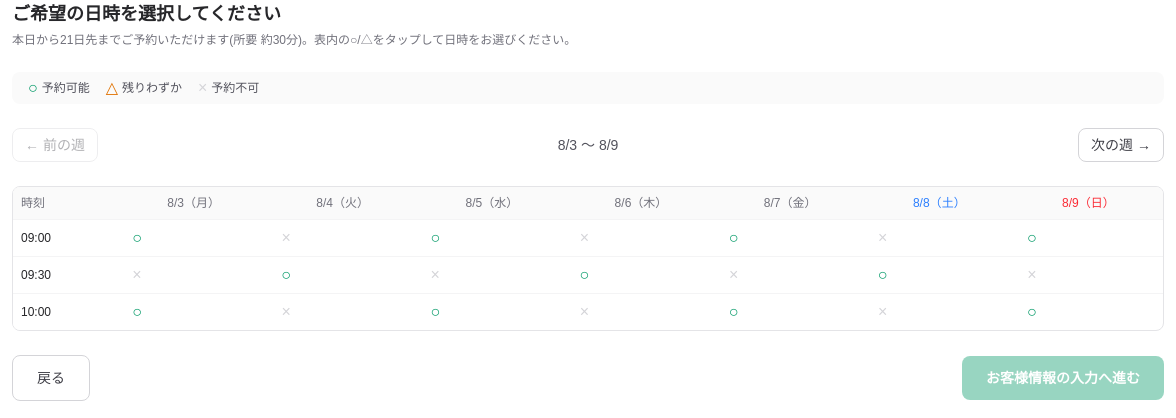
StepDateTime: 7日単位・3ページのページング境界 › 中間ページ(2ページ目)の日付範囲が 8/10 〜 8/16 になる
Expected: the table is shown, [13, 187, 1163, 330]
Click the button "次の週 →".
click(1121, 145)  # box [1078, 128, 1164, 162]
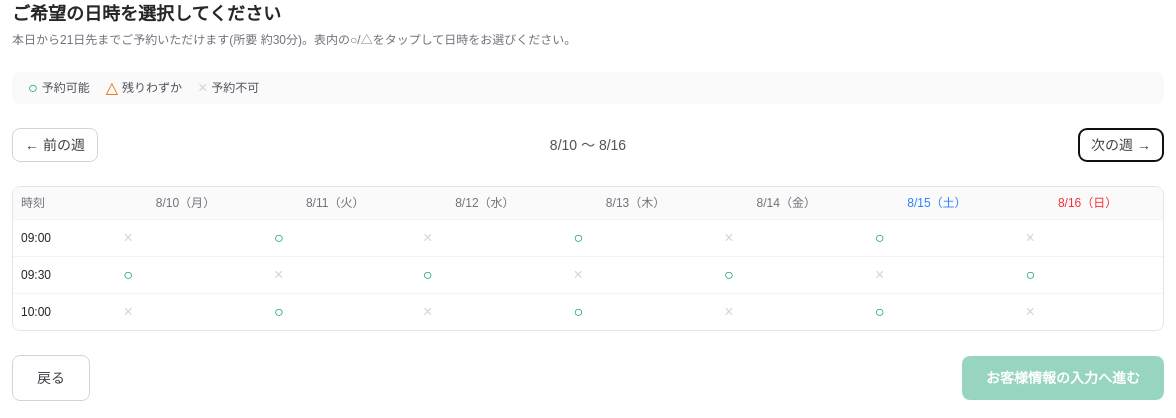
Now the text "8/10 〜 8/16" is shown, box [550, 135, 626, 155]
Now the text "8/3 〜 8/9" is gone
